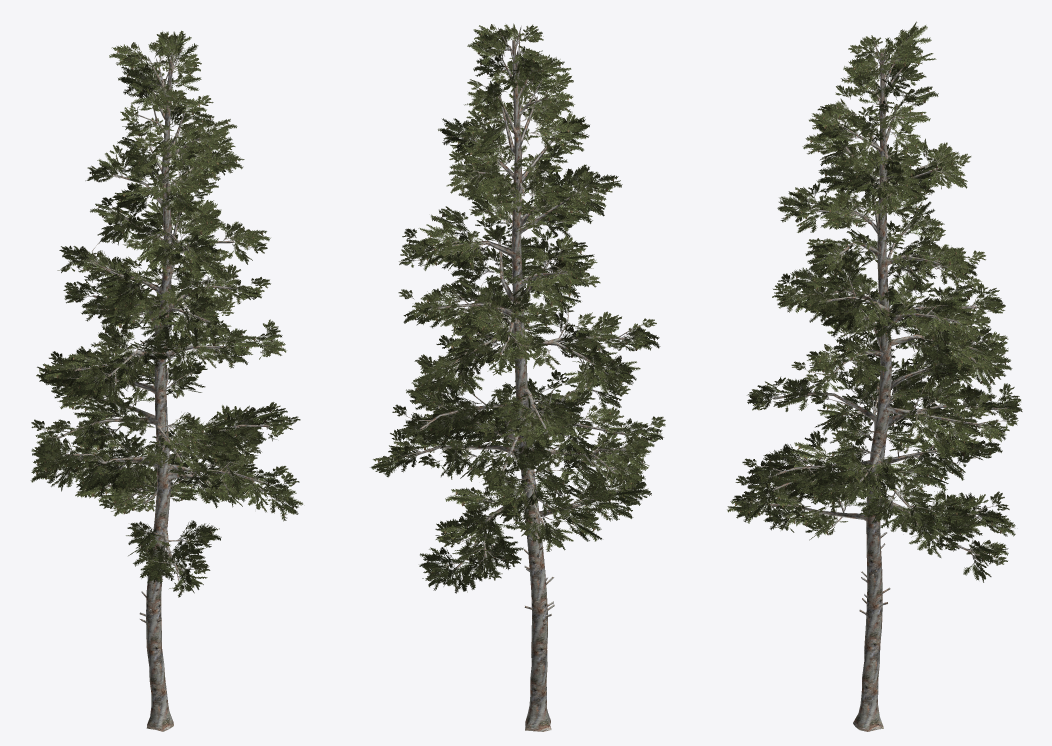
The model's file is Conifer_Low.obj.
The picture shows the model from 3 angles, left to right: view 1: azimuth 30°, elevation 25°; view 2: azimuth 150°, elevation 25°; view 3: azimuth 270°, elevation 25°; orthographic projection. The views are drawn at different scales.
Parts seen in each view (by area): view 1: Conifer_Low_Needles, Conifer_Low_BlueSpruceBark; view 2: Conifer_Low_Needles, Conifer_Low_BlueSpruceBark; view 3: Conifer_Low_Needles, Conifer_Low_BlueSpruceBark.
Boxes of the visible parts, <box> form: Conifer_Low_Needles: <box>30,30,302,597</box>; Conifer_Low_BlueSpruceBark: <box>43,48,271,731</box>; Conifer_Low_Needles: <box>370,23,665,593</box>; Conifer_Low_BlueSpruceBark: <box>398,28,651,731</box>; Conifer_Low_Needles: <box>727,21,1022,582</box>; Conifer_Low_BlueSpruceBark: <box>748,41,1007,731</box>.
Bounding box in the file's own units: 24.81 × 59.17 × 25.08.
3 materials, 3 textured.
